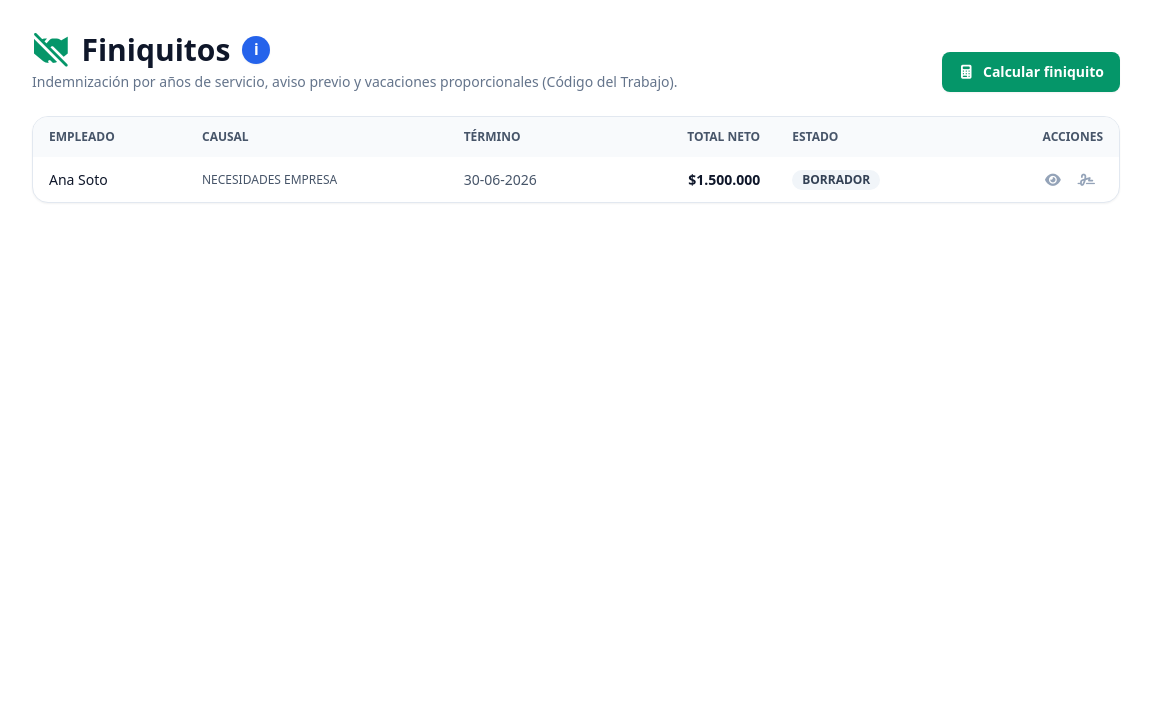
Test: FiniquitosRrhh › calcular finiquito envia el payload sin empleado_id y cierra el modal
Expected: the text "Ana Soto" is shown, [33,157,186,202]
Click the button "Calcular finiquito" at (1031, 72), box [942,52,1120,92]
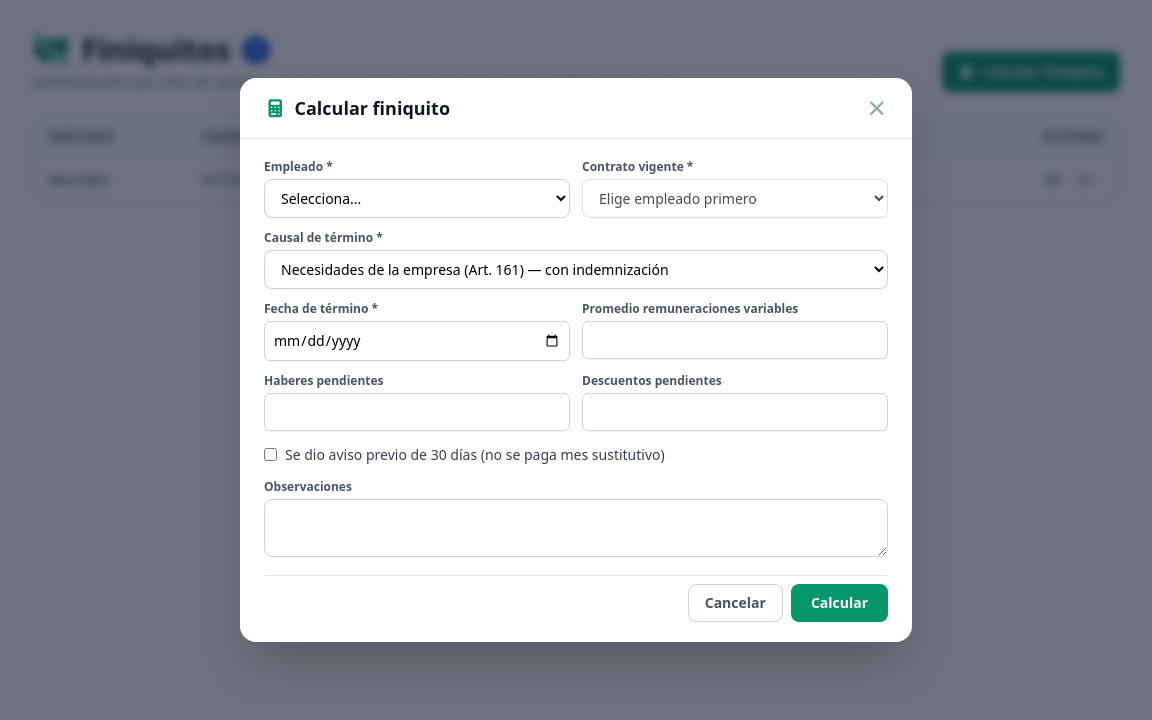
Now the text "Causal de término *" is shown, box [264,229,383,246]
Select "11.111.111-1 — Ana Soto" in the dropdown showing "Selecciona..." at (417, 198), box [264,179,570,218]
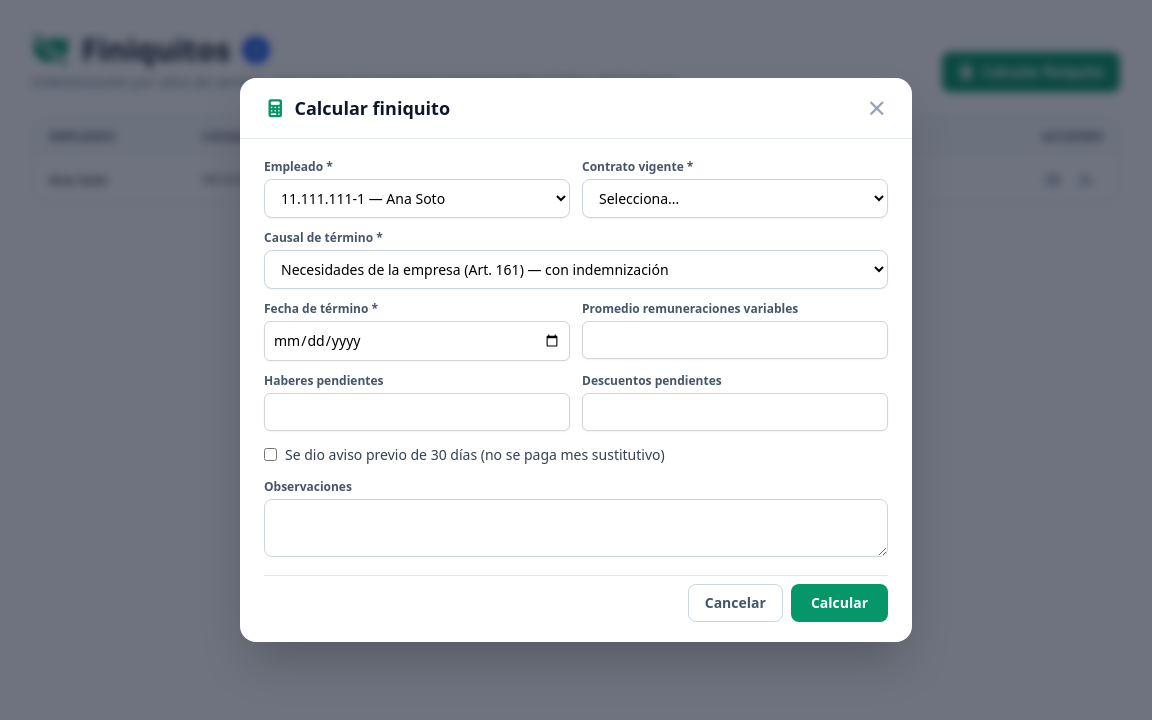
Select "Vendedor — desde 01-01-2024" in the dropdown labelled "Contrato vigente *" at (735, 198), box [582,179,888,218]
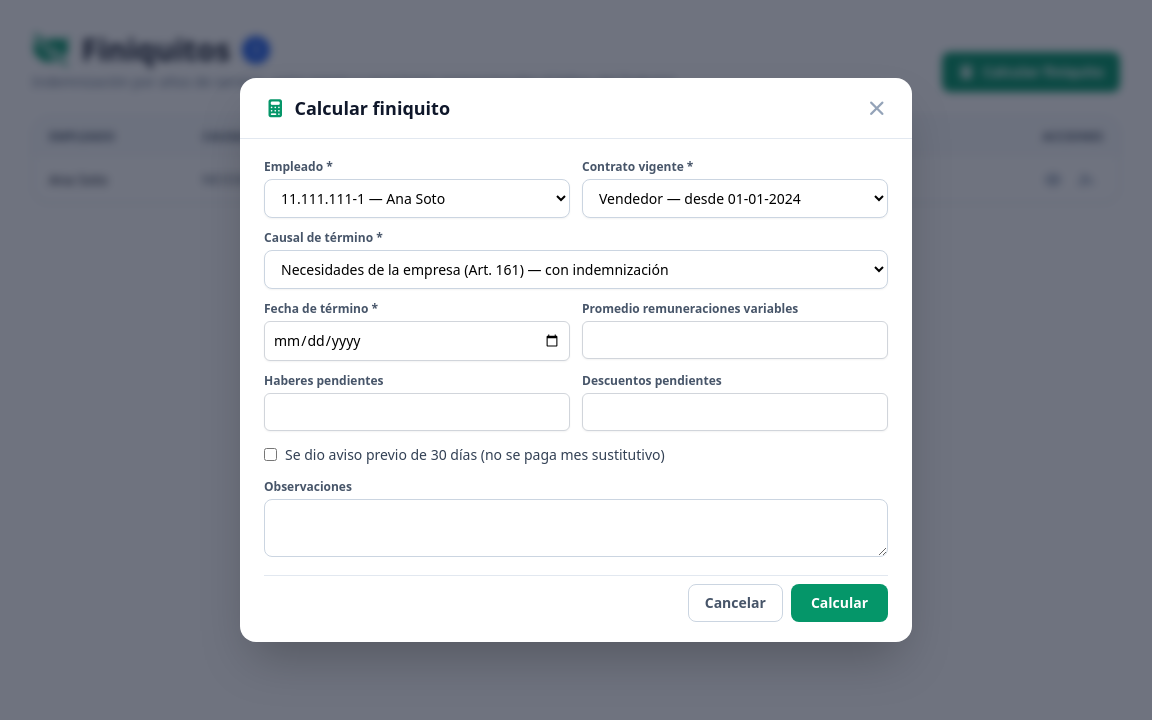
Type "2026-06-30" into the date field labelled "Fecha de término *" at (417, 341), box [264,321,570,361]
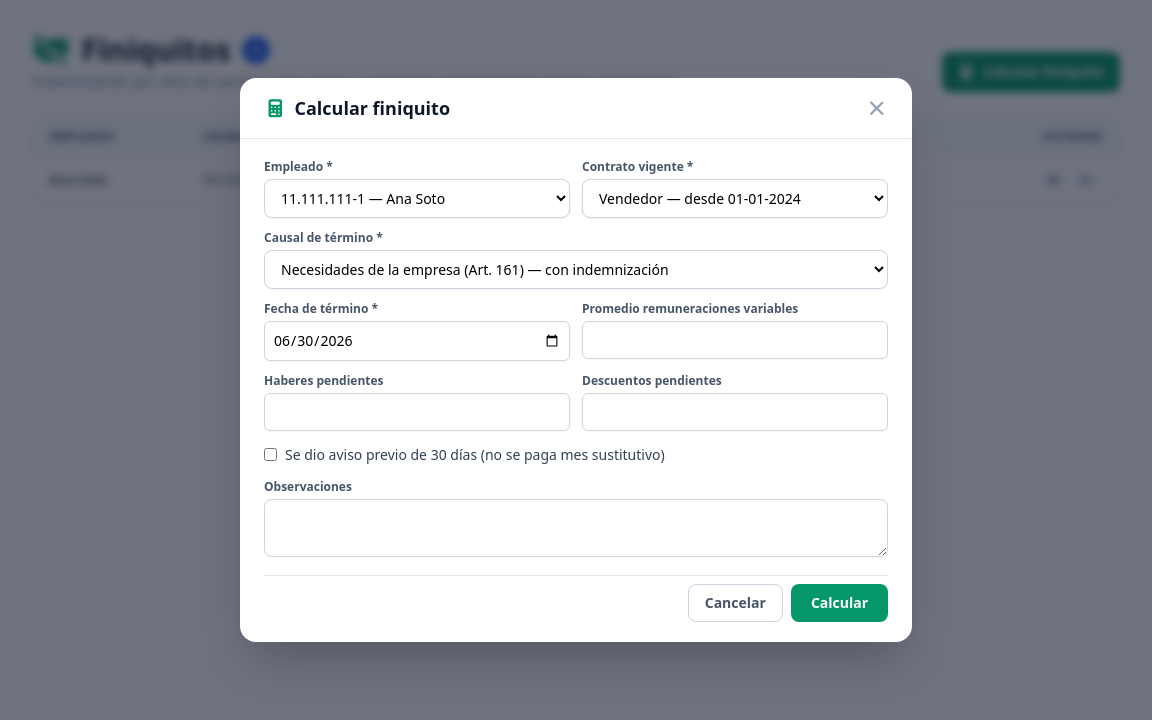
Click the button "Calcular" at (839, 603), box [791,584,888,622]
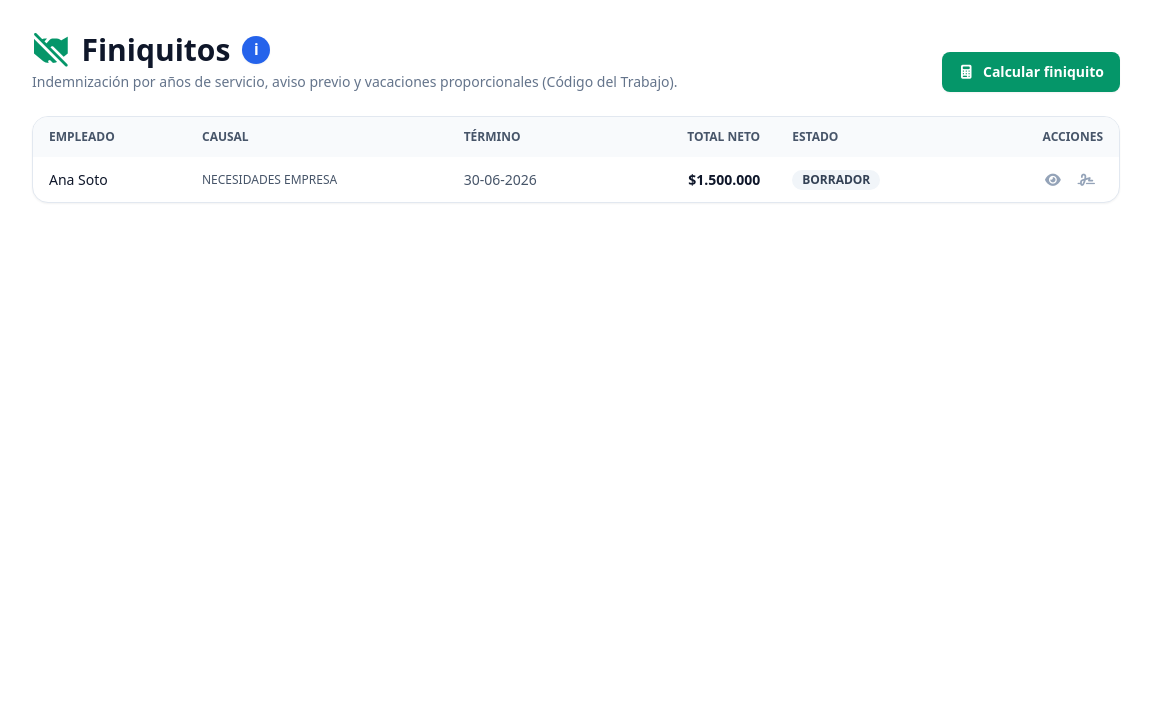
Now the text "Causal de término *" is gone
